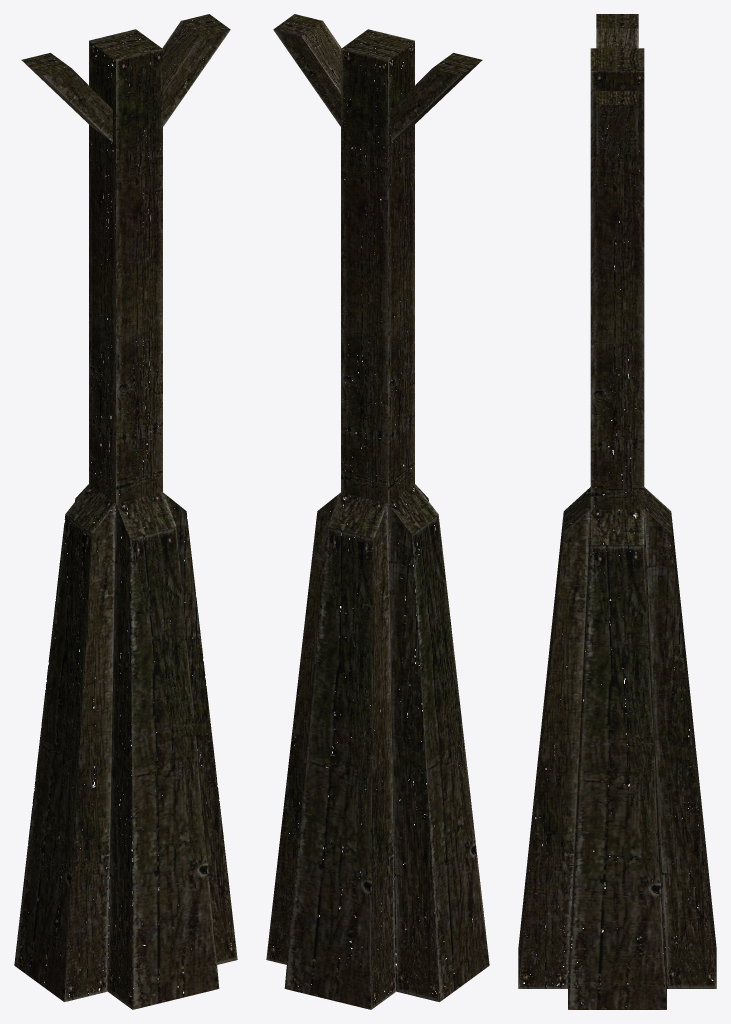
File: wood_tall_cellar.DAE
3 renders of one model, left to right at view 1: azimuth 30°, elevation 25°; view 2: azimuth 150°, elevation 25°; view 3: azimuth 270°, elevation 25°, orthographic.
Visible parts, largest first — view 1: pCube005; view 2: pCube005; view 3: pCube005.
Boxes of the visible parts, x1,y1,x2,y2 form: pCube005: (14,14,237,1009); pCube005: (266,14,489,1009); pCube005: (518,14,716,1009).
Size of the model in its own units: 2 by 9.32 by 1.84.
